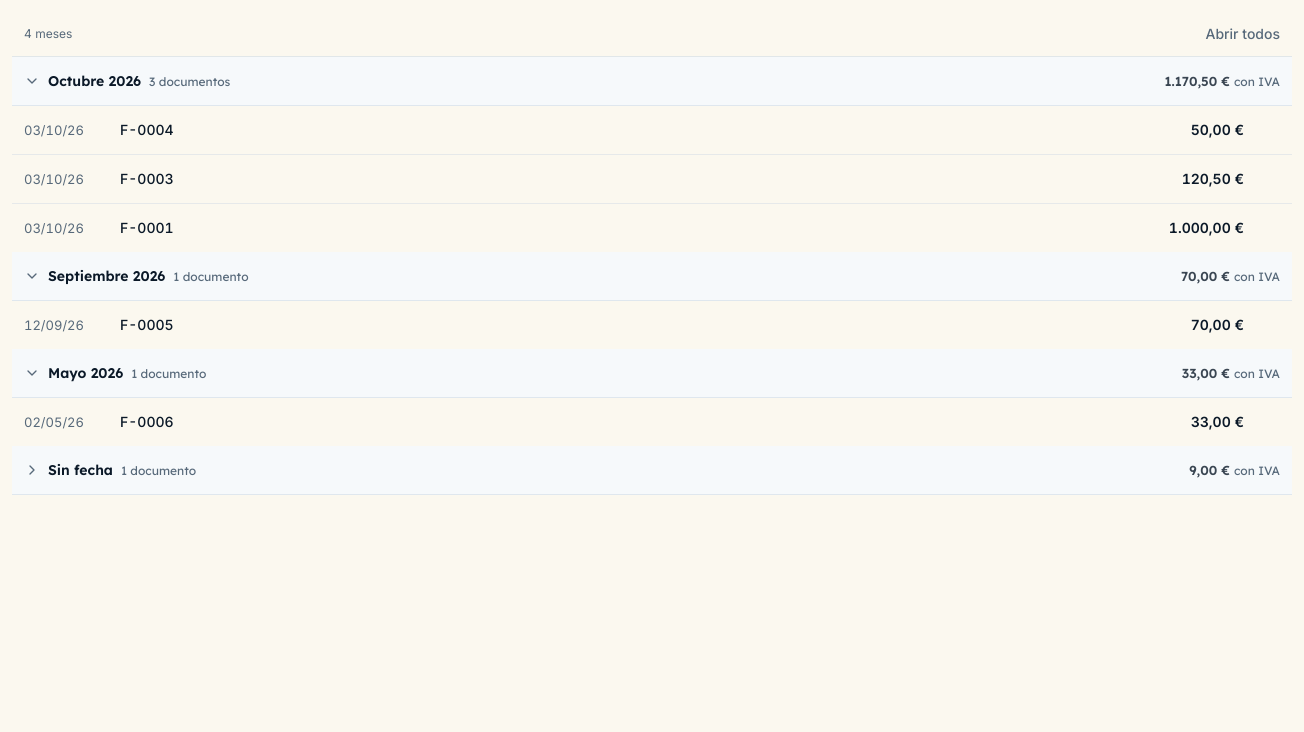
Test: ListaDocumentos agrupada por mes › despliegue de un proveedor: sin columna de proveedor, 3 meses abiertos y nada en localStorage
Click the button "Sin fecha 1 documento 9,00 € con IVA".
click(80, 470)  # box [12,446,1292,494]
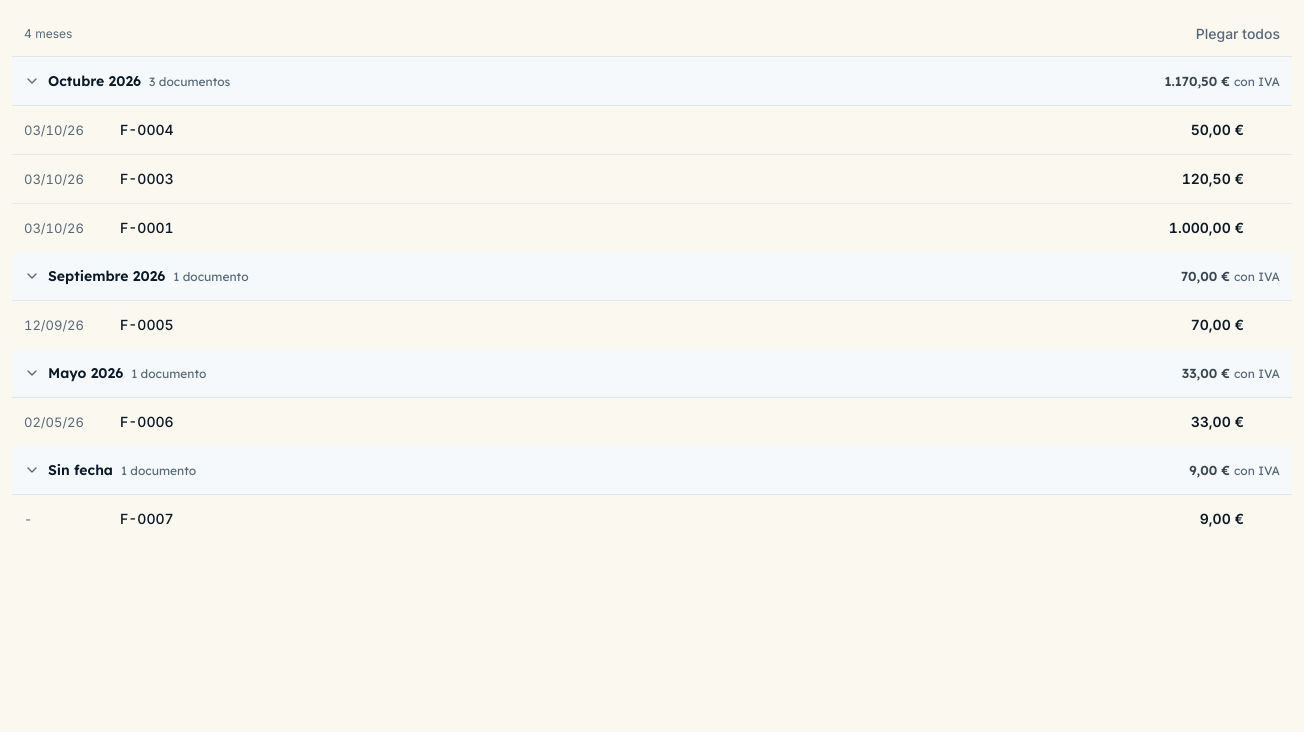
Check: the text "F-0007" is shown, box [120,510,174,527]
